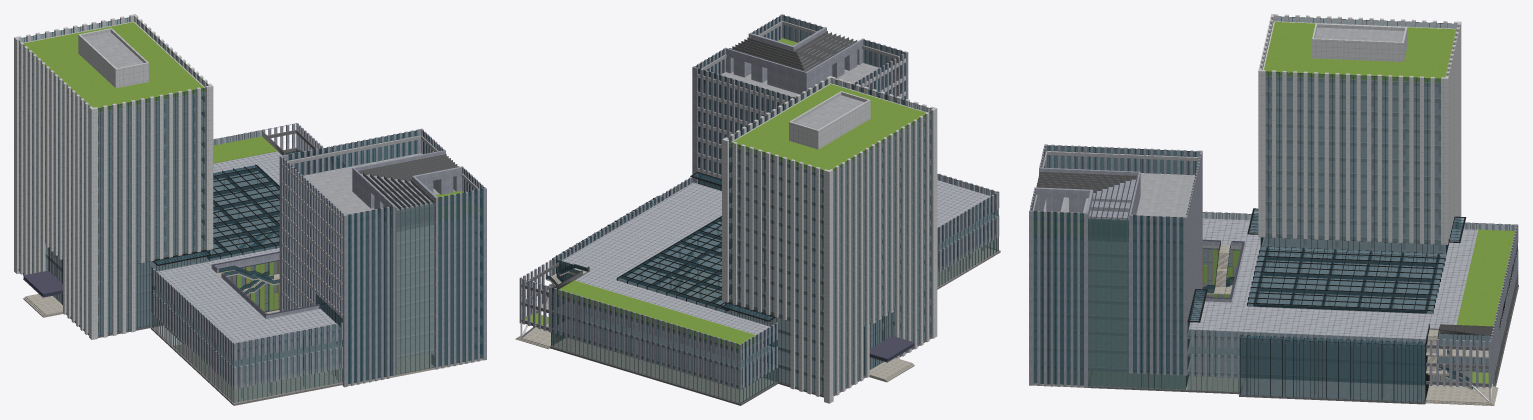
3 views of the same model, side by side, from view 1: azimuth 30°, elevation 25°; view 2: azimuth 150°, elevation 25°; view 3: azimuth 270°, elevation 25° (orthographic). The views are drawn at different scales.
Parts seen in each view (by area): view 1: JZ_JX_632; view 2: JZ_JX_632; view 3: JZ_JX_632.
Boxes of the visible parts, bbox=[...] form: JZ_JX_632: bbox=[14, 14, 486, 405]; JZ_JX_632: bbox=[515, 14, 1000, 405]; JZ_JX_632: bbox=[1029, 14, 1518, 405].
Bounding box in the file's own units: 8741 × 6255 × 11040.
